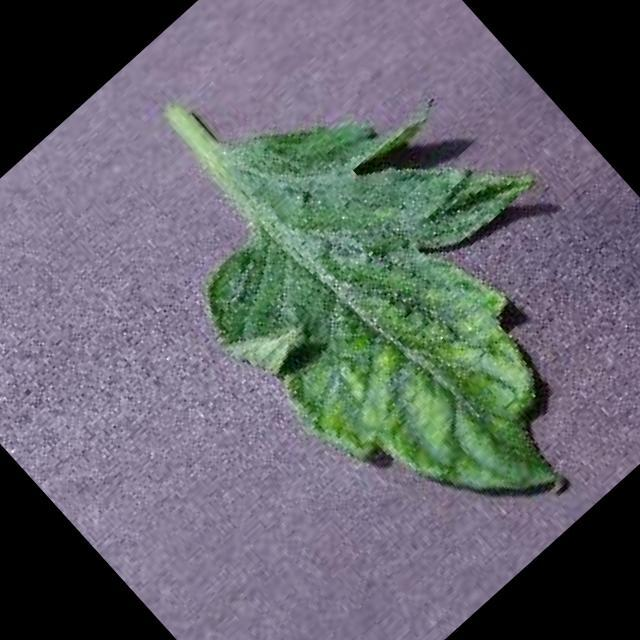Tomato mosaic virus leaf: (122, 8, 640, 601)
